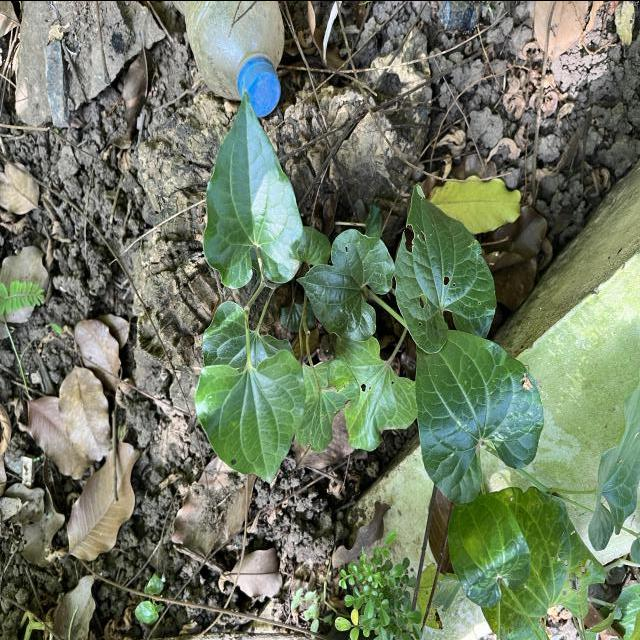Piper longum: (413, 326, 546, 506), (200, 86, 306, 290)
